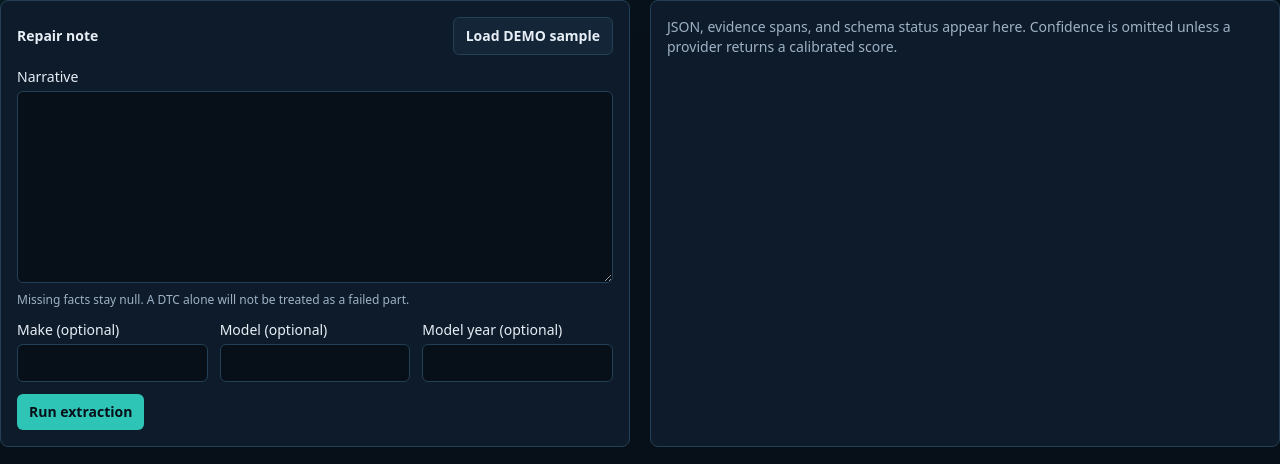
Test: sample button fills the demo note
Click the button "Load DEMO sample": (533, 36) [453,17,613,55]
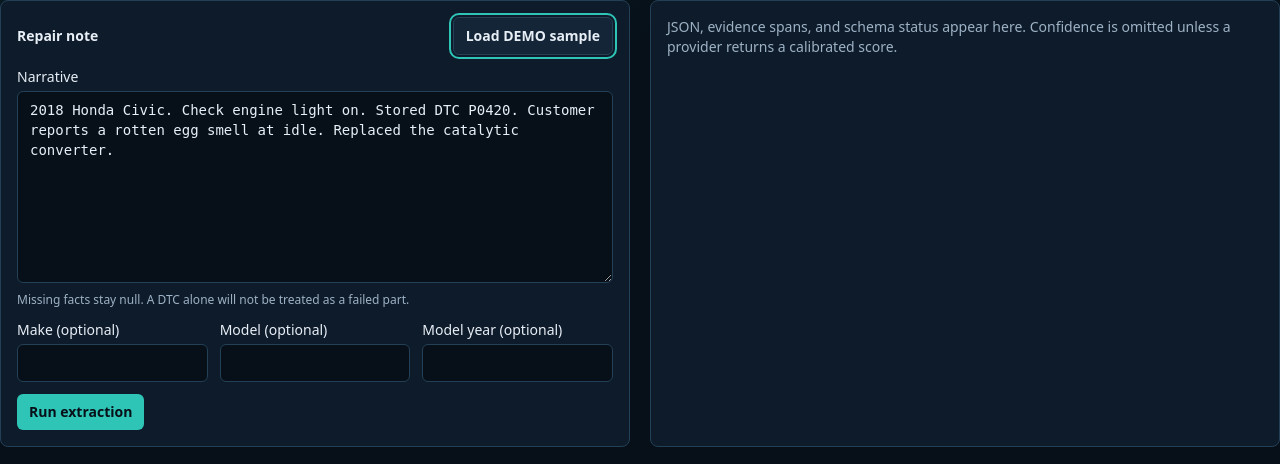
Result: the text box named "Repair note" holds "2018 Honda Civic. Check engine light on. Stored DTC P0420. Customer reports a rotten egg smell at idle. Replaced the catalytic converter." at [17,91,613,283]
